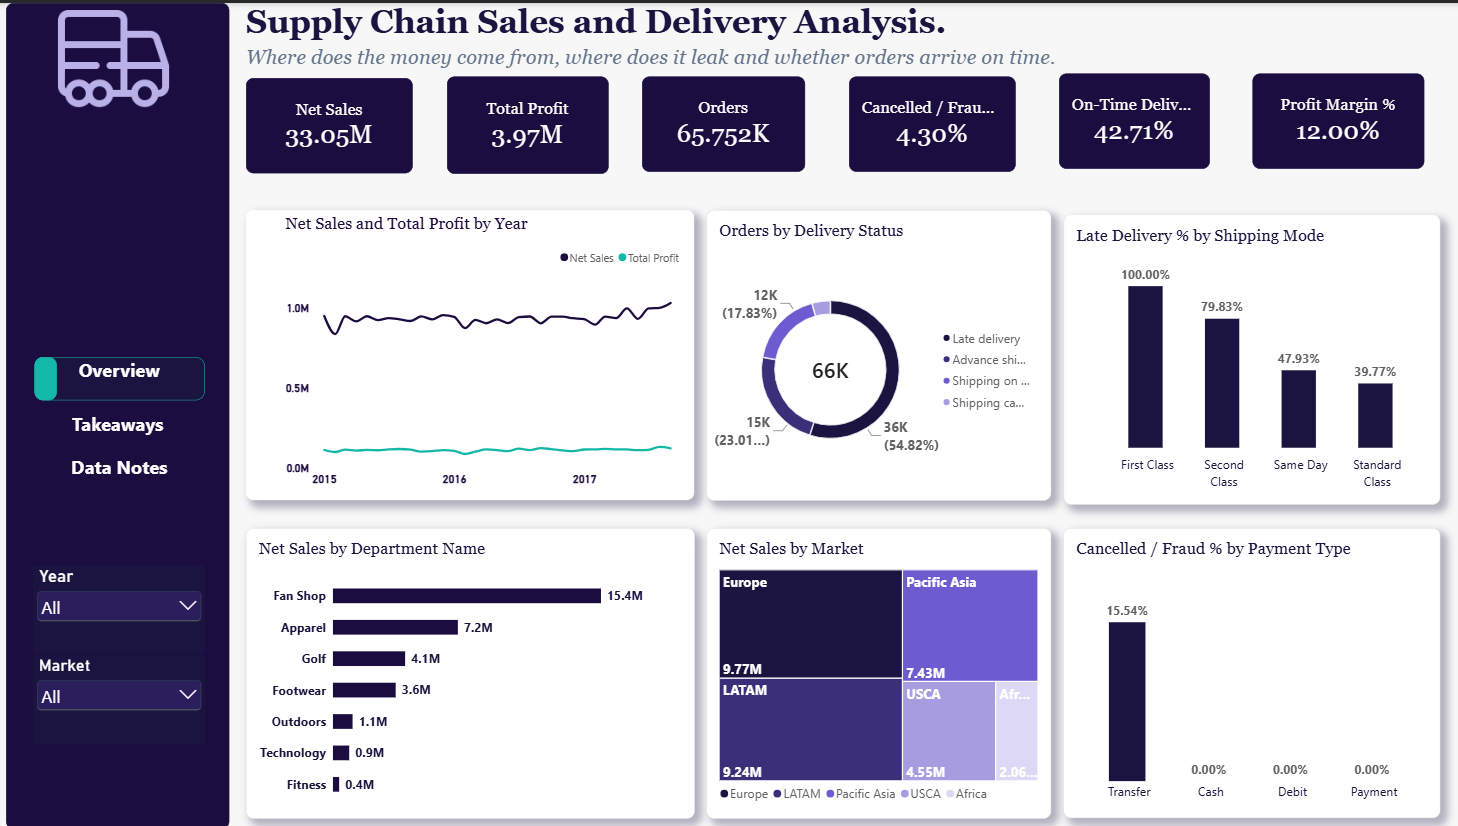

Layout of this report page (visuals, bound fields, positions):
{"tool":"powerbi","page":{"name":"Overview","canvas":[1920,1080],"ordinal":1},"visuals":[{"type":"textbox","box":[333.9,270.3,586,379.3],"z":0},{"type":"cardVisual","fields":{"Data":["Dim_Customer.Net Sales"]},"box":[333.9,97.7,218,124.9],"z":1000},{"type":"cardVisual","fields":{"Data":["Dim_Customer.Total Profit"]},"box":[596.4,95.4,211.2,127.2],"z":2000},{"type":"cardVisual","fields":{"Data":["Dim_Customer.Orders"]},"box":[851.7,95.4,213.5,124.9],"z":3000},{"type":"cardVisual","fields":{"Data":["Dim_Customer.Profit Margin %"]},"box":[1649,93.1,224.9,124.9],"z":4000},{"type":"cardVisual","fields":{"Data":["Dim_Customer.Cancelled / Fraud %"]},"box":[1121.6,95.4,218,124.9],"z":5000},{"type":"lineChart","title":"Net Sales and Total Profit by Year","fields":{"Category":["Dim_Date.Year-Month"],"Y":["Dim_Customer.Net Sales","Dim_Customer.Total Profit"]},"box":[368,263.5,551.9,386.1],"z":6000},{"type":"barChart","fields":{"Category":["Dim_Product.Department Name"],"Y":["Dim_Customer.Net Sales"]},"box":[333.9,685.9,586.8,379.8],"z":7000},{"type":"treemap","fields":{"Group":["Dim_Geography.Market"],"Values":["Dim_Customer.Net Sales"]},"box":[935.7,685.9,450.7,379.8],"z":8000},{"type":"textbox","box":[19.8,0,292,1080],"z":9000},{"type":"textbox","box":[333.9,0,1006.2,54.5],"z":10000},{"type":"textbox","box":[333.9,54.5,1090.2,43.2],"z":11000},{"type":"clusteredColumnChart","fields":{"Category":["Fact_OrderItems.Shipping Mode"],"Y":["Dim_Customer.Late Delivery %"]},"box":[1401.4,277.1,492.9,379.3],"z":12000},{"type":"donutChart","fields":{"Category":["Fact_OrderItems.Delivery Status"],"Y":["Dim_Customer.Orders"]},"box":[935.8,270.3,450.7,379.8],"z":13000},{"type":"clusteredColumnChart","fields":{"Category":["Fact_OrderItems.Payment Type"],"Y":["Dim_Customer.Cancelled / Fraud %"]},"box":[1401.4,685.9,492.9,379.3],"z":14000},{"type":"cardVisual","fields":{"Data":["Dim_Customer.On-Time Delivery %"]},"box":[1395.5,93.1,197.6,124.9],"z":15000},{"type":"slicer","fields":{"Values":["Dim_Date.Year"]},"box":[54.5,735.9,224.9,115.8],"z":16000},{"type":"slicer","fields":{"Values":["Dim_Geography.Market"]},"box":[54.5,854,224.9,115.8],"z":17000},{"type":"textbox","box":[55.7,532.7,221.6,56.9],"z":18000},{"type":"textbox","box":[56.8,463.3,222.6,56.8],"z":19000},{"type":"textbox","box":[57.6,589.6,221.6,56.9],"z":20000},{"type":"textbox","box":[56.8,463.3,29.5,56.8],"z":21000},{"type":"image","box":[56.8,0,206.7,145.4],"z":22000}]}

Visuals, with their boxes on the page's 1920x1080 design canvas (x1, y1, x2, y2). These are canvas units, not pixel positions in the 1458x826 screenshot, which may show the page scaled, cropped or inside an application window:
textbox: BBox(334, 270, 920, 650)
cardVisual - Dim_Customer.Net Sales: BBox(334, 98, 552, 223)
cardVisual - Dim_Customer.Total Profit: BBox(596, 95, 808, 223)
cardVisual - Dim_Customer.Orders: BBox(852, 95, 1065, 220)
cardVisual - Dim_Customer.Profit Margin %: BBox(1649, 93, 1874, 218)
cardVisual - Dim_Customer.Cancelled / Fraud %: BBox(1122, 95, 1340, 220)
"Net Sales and Total Profit by Year" lineChart: BBox(368, 264, 920, 650)
barChart - Dim_Product.Department Name x Dim_Customer.Net Sales: BBox(334, 686, 921, 1066)
treemap - Dim_Geography.Market x Dim_Customer.Net Sales: BBox(936, 686, 1386, 1066)
textbox: BBox(20, 0, 312, 1080)
textbox: BBox(334, 0, 1340, 54)
textbox: BBox(334, 54, 1424, 98)
clusteredColumnChart - Fact_OrderItems.Shipping Mode x Dim_Customer.Late Delivery %: BBox(1401, 277, 1894, 656)
donutChart - Fact_OrderItems.Delivery Status x Dim_Customer.Orders: BBox(936, 270, 1386, 650)
clusteredColumnChart - Fact_OrderItems.Payment Type x Dim_Customer.Cancelled / Fraud %: BBox(1401, 686, 1894, 1065)
cardVisual - Dim_Customer.On-Time Delivery %: BBox(1396, 93, 1593, 218)
slicer - Dim_Date.Year: BBox(54, 736, 279, 852)
slicer - Dim_Geography.Market: BBox(54, 854, 279, 970)
textbox: BBox(56, 533, 277, 590)
textbox: BBox(57, 463, 279, 520)
textbox: BBox(58, 590, 279, 646)
textbox: BBox(57, 463, 86, 520)
image: BBox(57, 0, 264, 145)
